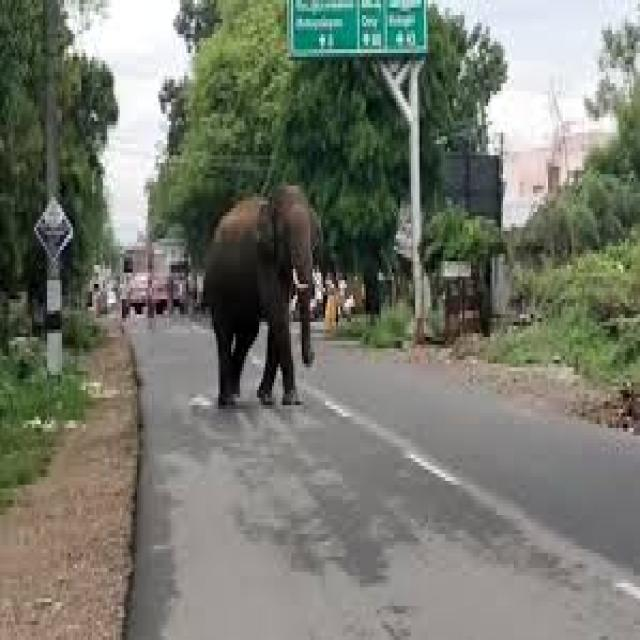Elephant: (186, 168, 331, 431)
